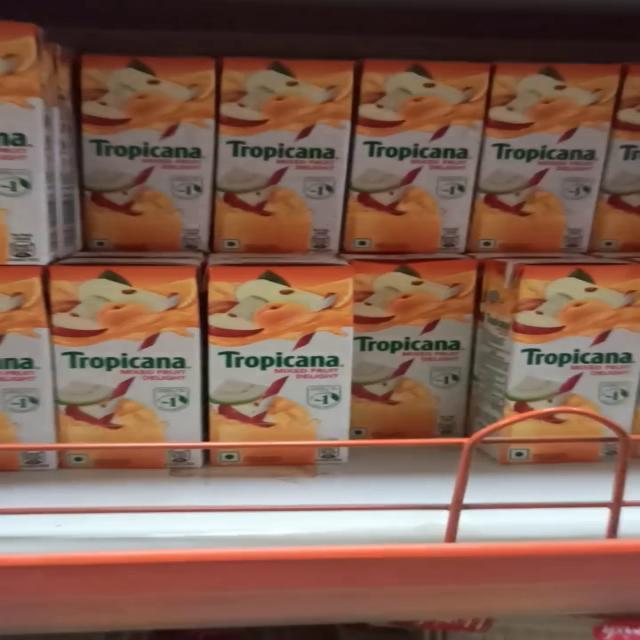Tropicana: (45, 257, 203, 464), (208, 49, 360, 249), (211, 255, 355, 462), (501, 255, 640, 468), (354, 250, 481, 460), (81, 46, 211, 250), (357, 52, 486, 252), (488, 54, 614, 246)
